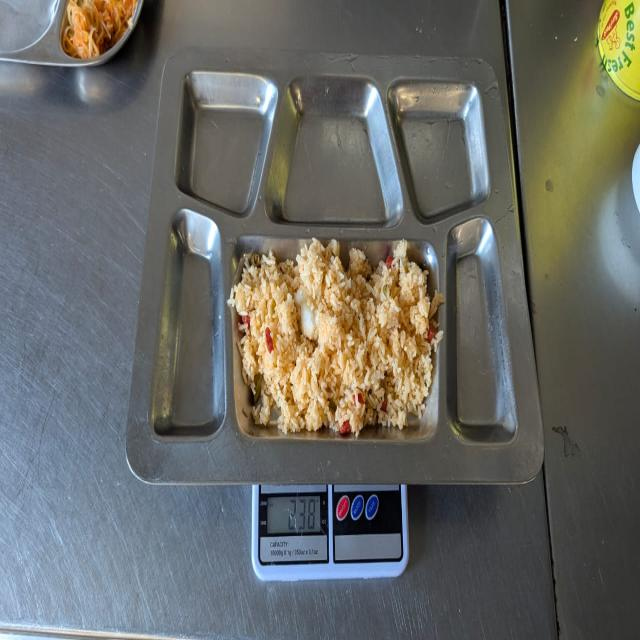Fried Rice: (228, 238, 444, 447)
